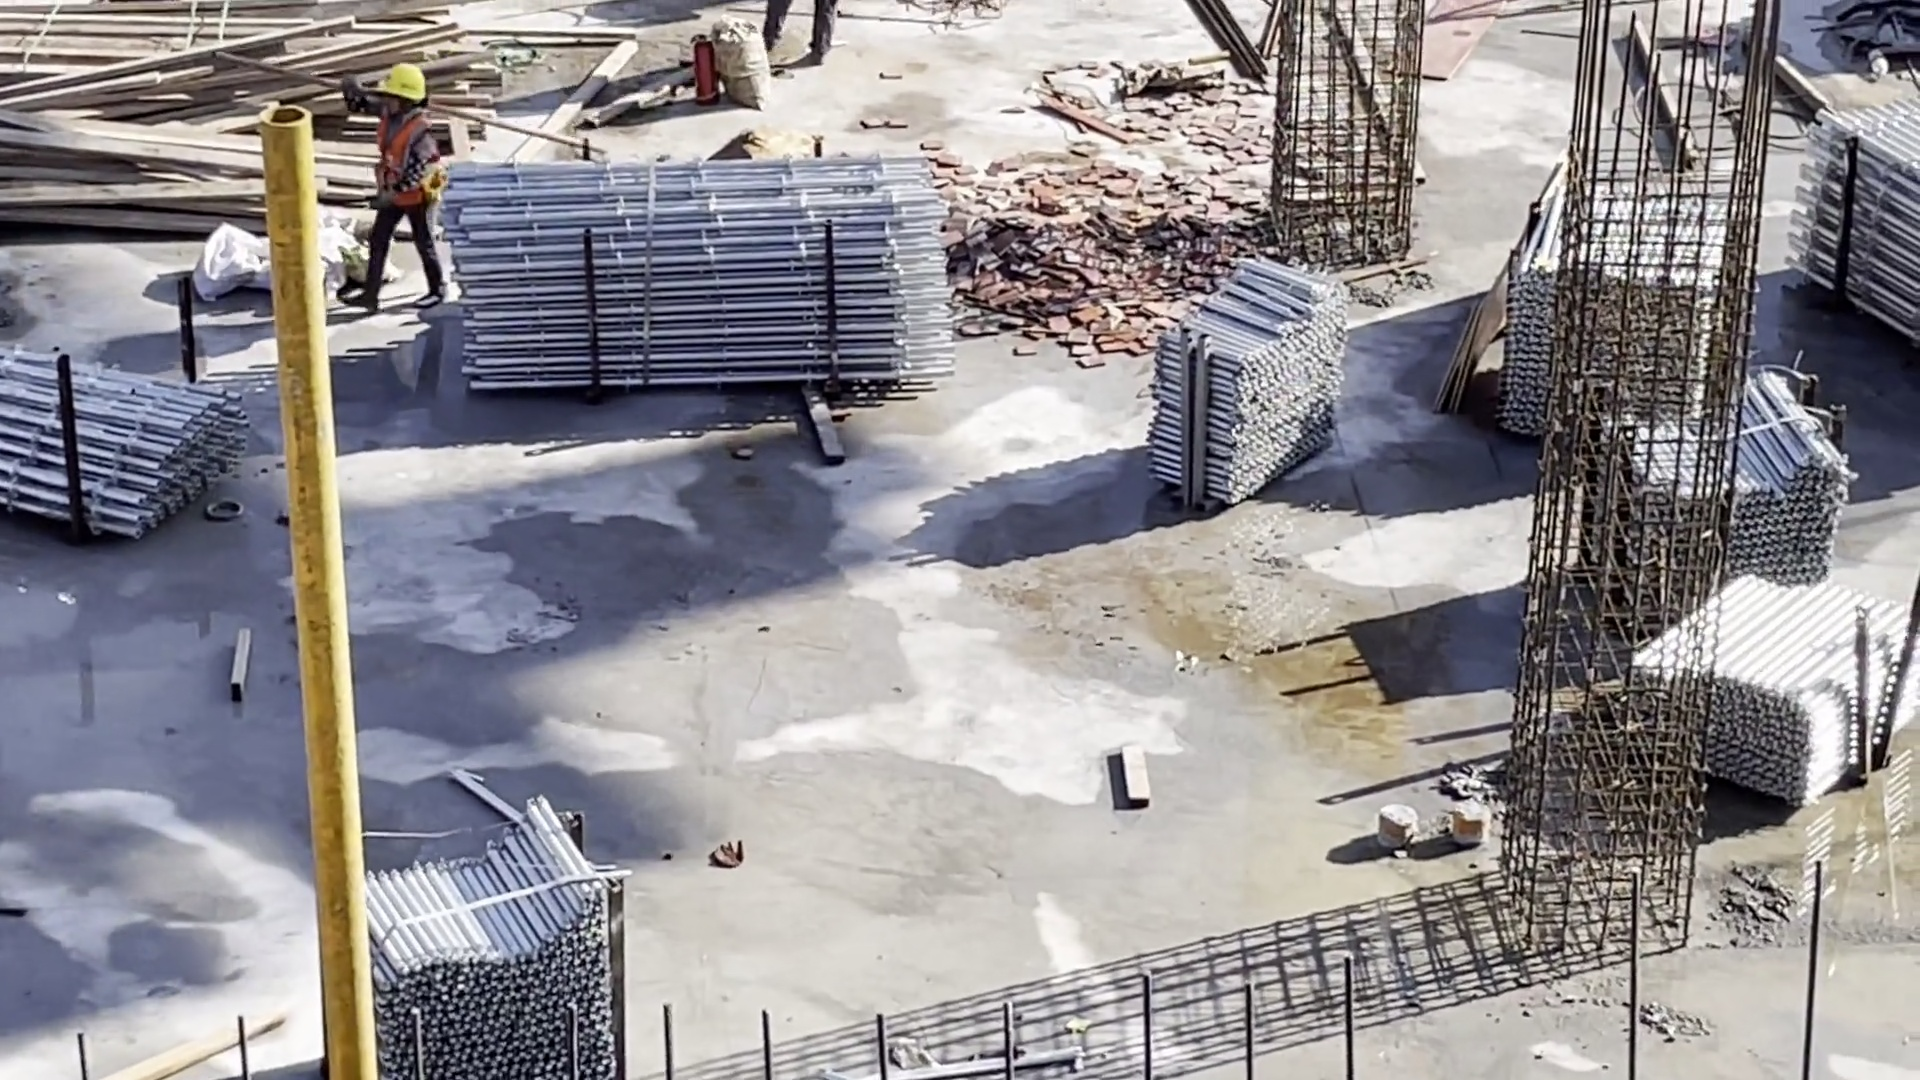helmet: (377, 64, 422, 100)
person: (368, 60, 450, 304), (748, 1, 841, 79)
scaffold: (441, 142, 965, 417), (372, 802, 627, 1080), (1643, 568, 1906, 815), (1516, 156, 1743, 439), (1, 337, 249, 551), (1143, 257, 1349, 512), (1616, 375, 1841, 579), (1794, 95, 1920, 352)
vest: (370, 112, 433, 205)
wood: (1, 1, 453, 242)
